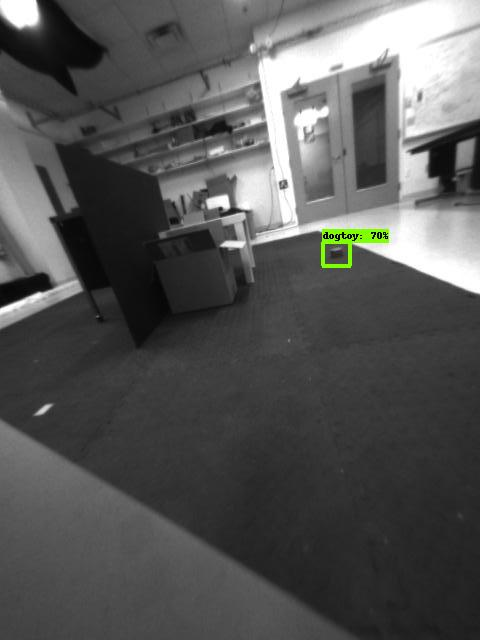dogtoy: (320, 243, 355, 265)
